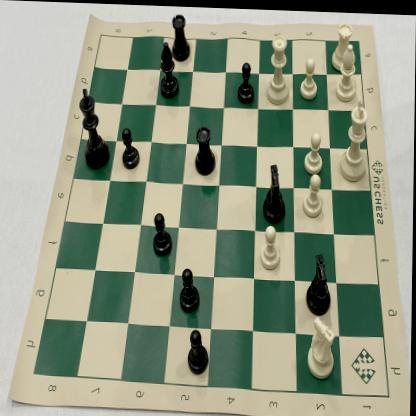black-bishop: (157, 36, 181, 102)
black-king: (74, 82, 113, 172)
black-knight: (302, 246, 334, 318), (260, 159, 289, 226)
black-pawn: (186, 324, 211, 375), (151, 207, 175, 259), (178, 264, 202, 314), (234, 58, 256, 105), (120, 123, 141, 172)
black-rook: (192, 121, 219, 179), (169, 6, 193, 65)
white-bishop: (334, 38, 360, 101)
white-king: (336, 94, 374, 182)
white-knight: (304, 311, 341, 380)
white-pawn: (258, 222, 284, 271), (301, 169, 326, 219), (298, 52, 321, 101), (304, 127, 326, 175)
white-queen: (262, 27, 293, 107)
white-rook: (329, 17, 355, 72)
